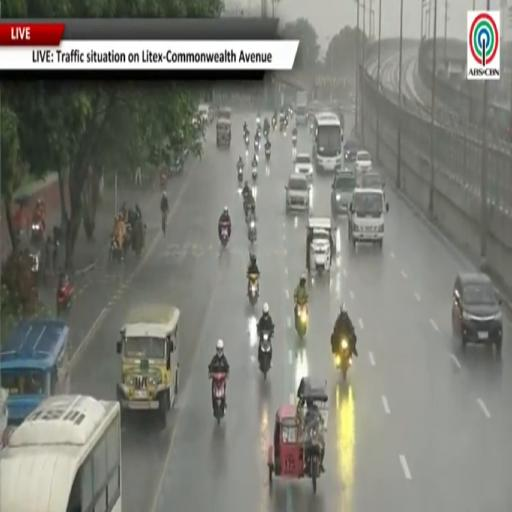bus: (0, 395, 121, 511), (0, 319, 69, 424), (313, 114, 342, 172)
car: (452, 272, 503, 351), (348, 188, 389, 248), (331, 170, 355, 216), (285, 173, 309, 212), (358, 170, 384, 190), (295, 153, 312, 181), (344, 139, 359, 166), (355, 150, 372, 172), (198, 104, 210, 124)
jeepney: (117, 304, 179, 422), (307, 218, 333, 273), (217, 118, 231, 147), (218, 107, 232, 121)
motorcycle: (210, 373, 227, 424), (335, 336, 351, 379), (259, 332, 272, 379), (57, 281, 73, 316), (295, 303, 308, 338), (109, 238, 124, 262), (30, 220, 44, 245), (248, 275, 258, 306), (218, 223, 230, 247), (248, 219, 257, 244), (162, 213, 167, 235), (160, 172, 166, 190), (237, 167, 243, 184), (244, 134, 250, 150), (265, 148, 270, 163), (254, 139, 259, 153), (252, 167, 257, 181), (280, 119, 285, 132), (272, 117, 276, 131), (264, 128, 269, 138), (292, 136, 296, 148), (256, 117, 260, 125)
tricycle: (268, 377, 327, 493)
truck: (295, 91, 308, 125)
